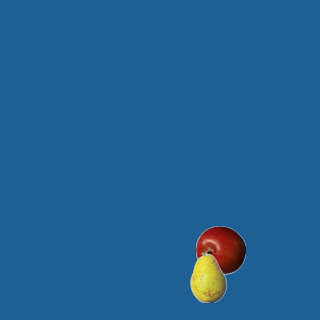Apple Braeburn: (195, 225, 245, 275)
Pear Monster: (183, 252, 233, 302)
